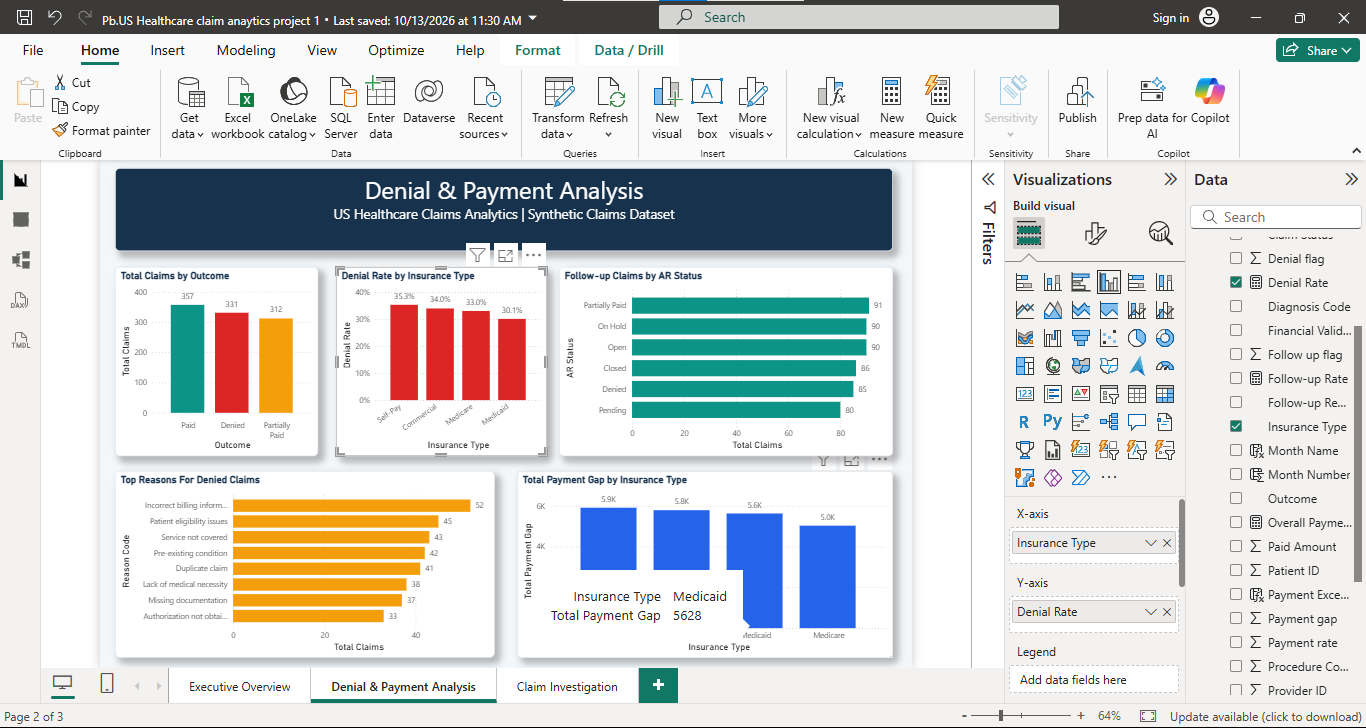

The dashboard page shown, as its layout file describes it:
{"tool":"powerbi","page":{"name":"Denial & Payment Analysis","canvas":[1280,800],"ordinal":1},"visuals":[{"type":"clusteredColumnChart","fields":{"Category":["claim_data.Outcome"],"Y":["claim_data.Total Claims"]},"box":[23.6,168.5,319.7,297.6],"z":0},{"type":"clusteredBarChart","title":"Top Reasons For Denied Claims","fields":{"Category":["claim_data.Reason Code"],"Y":["claim_data.Total Claims"]},"box":[23.6,489.8,598.4,294.5],"z":1000},{"type":"clusteredColumnChart","fields":{"Category":["claim_data.Insurance Type"],"Y":["claim_data.Denial Rate"]},"box":[371.7,168.5,332.3,297.6],"z":2000},{"type":"clusteredColumnChart","fields":{"Category":["claim_data.Insurance Type"],"Y":["claim_data.Total Payment Gap"]},"box":[656.7,489.8,592.1,294.5],"z":3000},{"type":"clusteredBarChart","title":"Follow-up Claims by AR Status","fields":{"Category":["claim_data.AR Status"],"Y":["claim_data.Total Claims"]},"box":[722.8,168.5,526,297.6],"z":4000},{"type":"textbox","box":[23.6,12.6,1225.2,130.7],"z":5000}]}

Visuals, with their boxes on the page's 1280x800 design canvas (x1, y1, x2, y2). These are canvas units, not pixel positions in the 1366x728 screenshot, which may show the page scaled, cropped or inside an application window:
clusteredColumnChart - claim_data.Outcome x claim_data.Total Claims: BBox(24, 168, 343, 466)
"Top Reasons For Denied Claims" clusteredBarChart: BBox(24, 490, 622, 784)
clusteredColumnChart - claim_data.Insurance Type x claim_data.Denial Rate: BBox(372, 168, 704, 466)
clusteredColumnChart - claim_data.Insurance Type x claim_data.Total Payment Gap: BBox(657, 490, 1249, 784)
"Follow-up Claims by AR Status" clusteredBarChart: BBox(723, 168, 1249, 466)
textbox: BBox(24, 13, 1249, 143)
